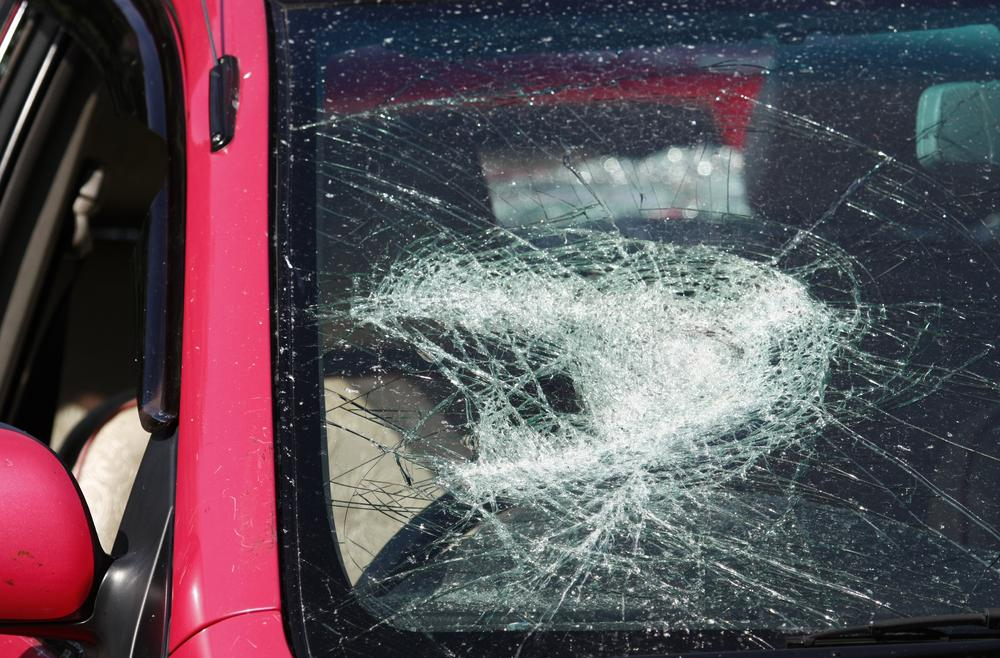glass shatter: (271, 0, 1000, 658)
